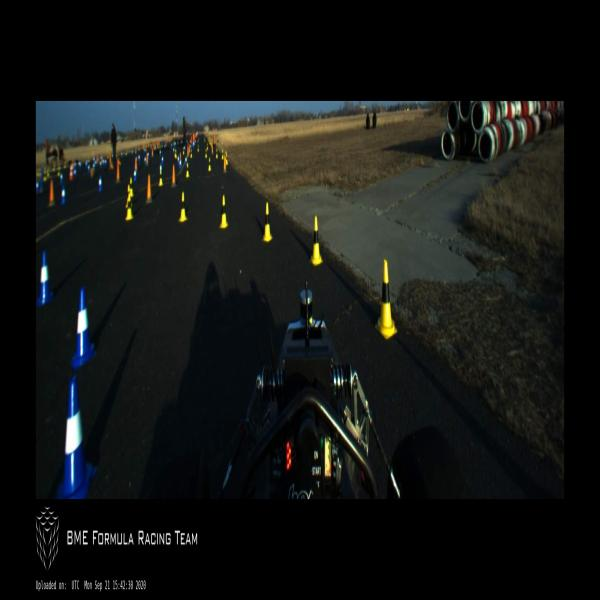blue_cone: (57, 378, 96, 498), (70, 286, 96, 369), (37, 251, 56, 306), (60, 186, 66, 206), (97, 174, 102, 192), (133, 167, 137, 182), (60, 172, 63, 182), (87, 164, 90, 173), (161, 156, 164, 164), (185, 154, 187, 166), (179, 159, 181, 170), (36, 181, 38, 192), (177, 155, 179, 165), (144, 154, 146, 164), (138, 154, 140, 162)
yellow_cone: (375, 261, 397, 340), (309, 215, 323, 267), (261, 202, 273, 242), (178, 191, 188, 223), (220, 195, 228, 228), (126, 193, 134, 222), (126, 186, 132, 206), (130, 176, 134, 196), (159, 170, 163, 188), (186, 163, 190, 177), (208, 158, 211, 172), (221, 149, 224, 160), (215, 150, 218, 160), (226, 153, 228, 164), (205, 149, 207, 159), (190, 149, 192, 157), (175, 150, 177, 158), (183, 146, 184, 154), (198, 144, 199, 152)
